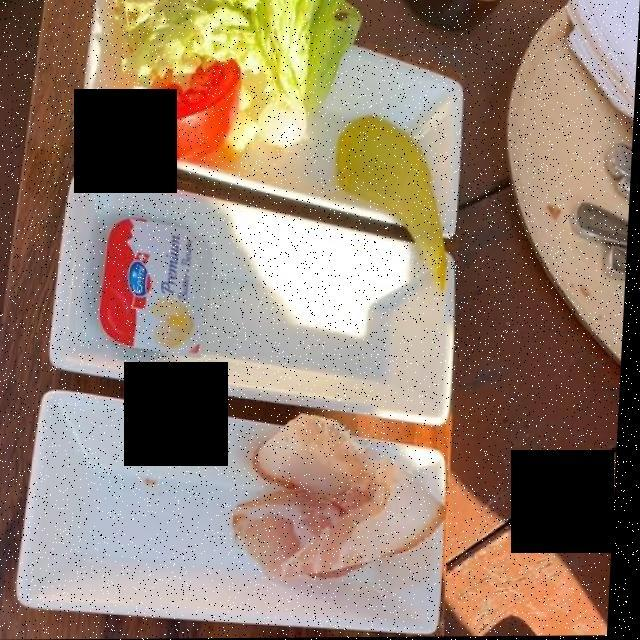bacon: (218, 401, 463, 586)
cucumber-pickled: (331, 106, 456, 309)
salad: (115, 0, 373, 145)
tomato: (107, 44, 246, 176)
